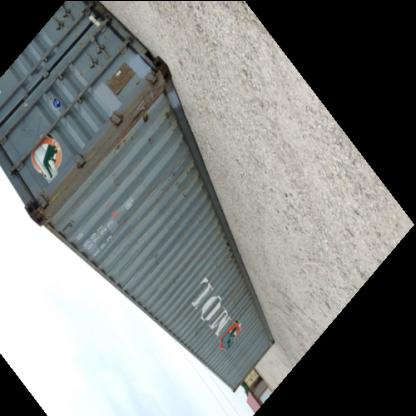Damage: (183, 290, 257, 332), (167, 157, 203, 201), (108, 127, 134, 153), (157, 102, 177, 134), (102, 166, 124, 193), (142, 246, 165, 266), (136, 107, 148, 124), (144, 132, 152, 146)
